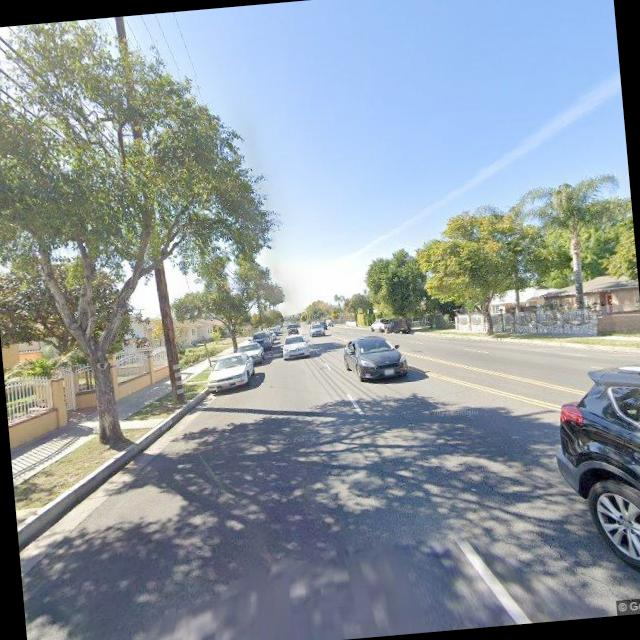pothole: (460, 442, 626, 607)
